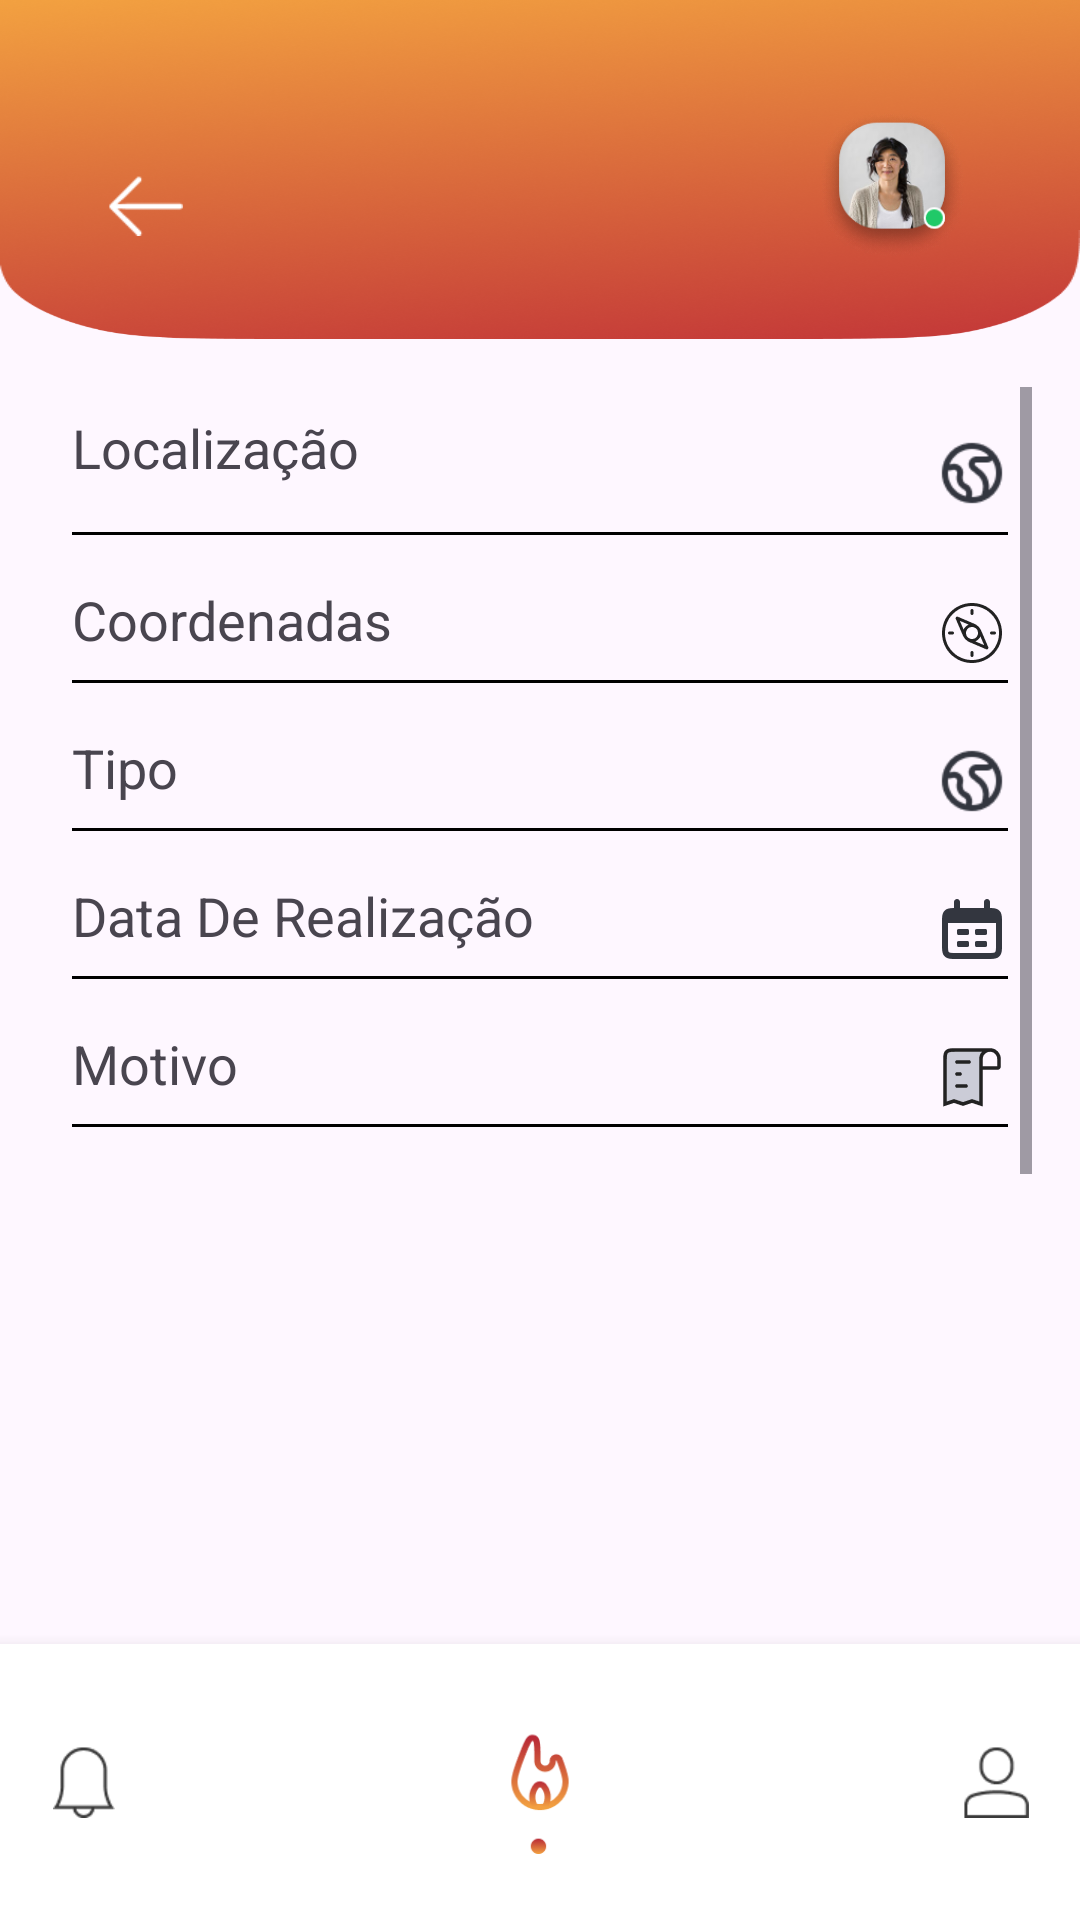

Icon click points for this 1080 x 1920 phone screenshot, format (x,y):
coordenadas: (972,633)
data: (972,929)
fire: (540,1794)
localizacao: (972,473), (972,781)
notification: (84,1782)
profile: (891,183), (996,1782)
setaback: (146,206)
